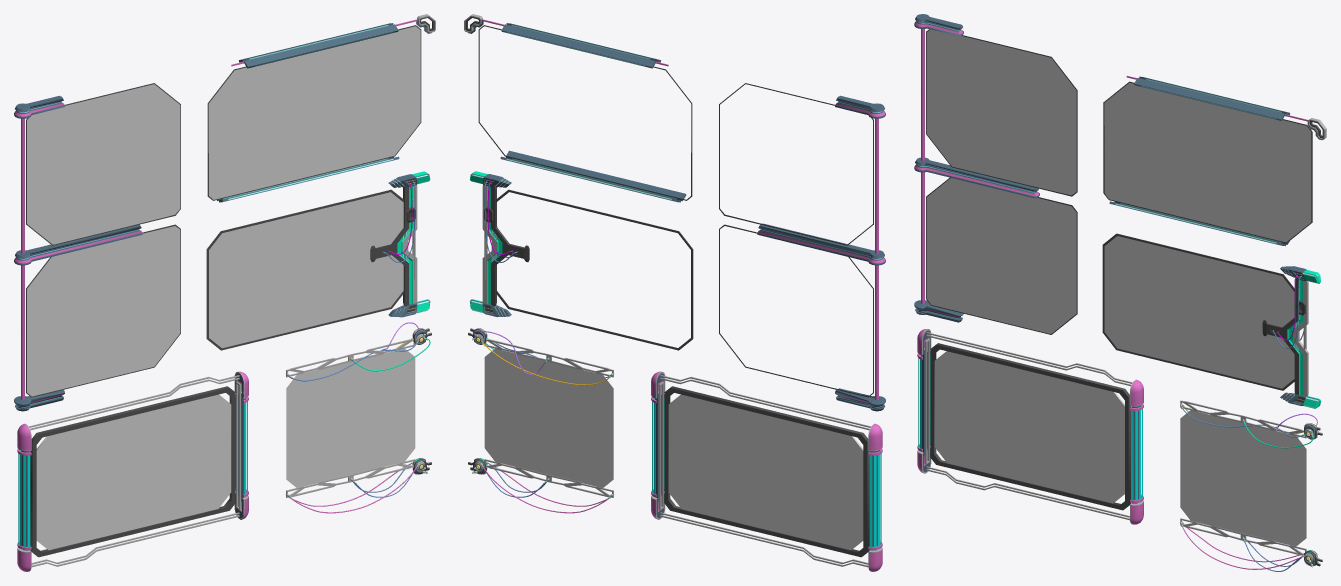
Rendered from billboards.glb.
3 renders of one model, left to right at view 1: azimuth 30°, elevation 25°; view 2: azimuth 150°, elevation 25°; view 3: azimuth 330°, elevation 25°, orthographic. The views are drawn at different scales.
Parts seen in each view (by area): view 1: billboard1_screen, billboard2_screen, billboard4_screen, billboard3_screen, billboard5_screen, sfb07, sfb10, export sfb2, sfb09, SFB1; view 2: billboard4_screen, billboard5_screen, sfb07, sfb10, export sfb2, sfb09, SFB1; view 3: billboard1_screen, billboard2_screen, billboard4_screen, billboard3_screen, billboard5_screen, sfb07, sfb10, export sfb2, sfb09, SFB1.
Boxes of the visible parts, <box> form: billboard1_screen: <box>27,84,180,396</box>; billboard2_screen: <box>208,26,420,199</box>; billboard4_screen: <box>36,394,231,550</box>; billboard3_screen: <box>209,192,403,348</box>; billboard5_screen: <box>286,348,415,487</box>; sfb07: <box>17,371,248,571</box>; sfb10: <box>14,83,180,411</box>; export sfb2: <box>206,171,430,350</box>; sfb09: <box>207,14,435,202</box>; SFB1: <box>285,322,431,513</box>; billboard4_screen: <box>668,394,863,550</box>; billboard5_screen: <box>484,348,613,487</box>; sfb07: <box>651,371,882,571</box>; sfb10: <box>719,83,885,411</box>; export sfb2: <box>470,171,693,350</box>; sfb09: <box>464,14,692,202</box>; SFB1: <box>468,328,614,513</box>; billboard1_screen: <box>926,29,1076,333</box>; billboard2_screen: <box>1104,82,1311,242</box>; billboard4_screen: <box>934,351,1124,503</box>; billboard3_screen: <box>1104,236,1294,388</box>; billboard5_screen: <box>1180,410,1306,546</box>; sfb07: <box>917,329,1143,524</box>; sfb10: <box>914,14,1077,334</box>; export sfb2: <box>1102,233,1320,408</box>; sfb09: <box>1103,75,1326,246</box>; SFB1: <box>1180,400,1322,571</box>.
Bounding box in the file's own units: 11.33 × 12.38 × 0.5584.
